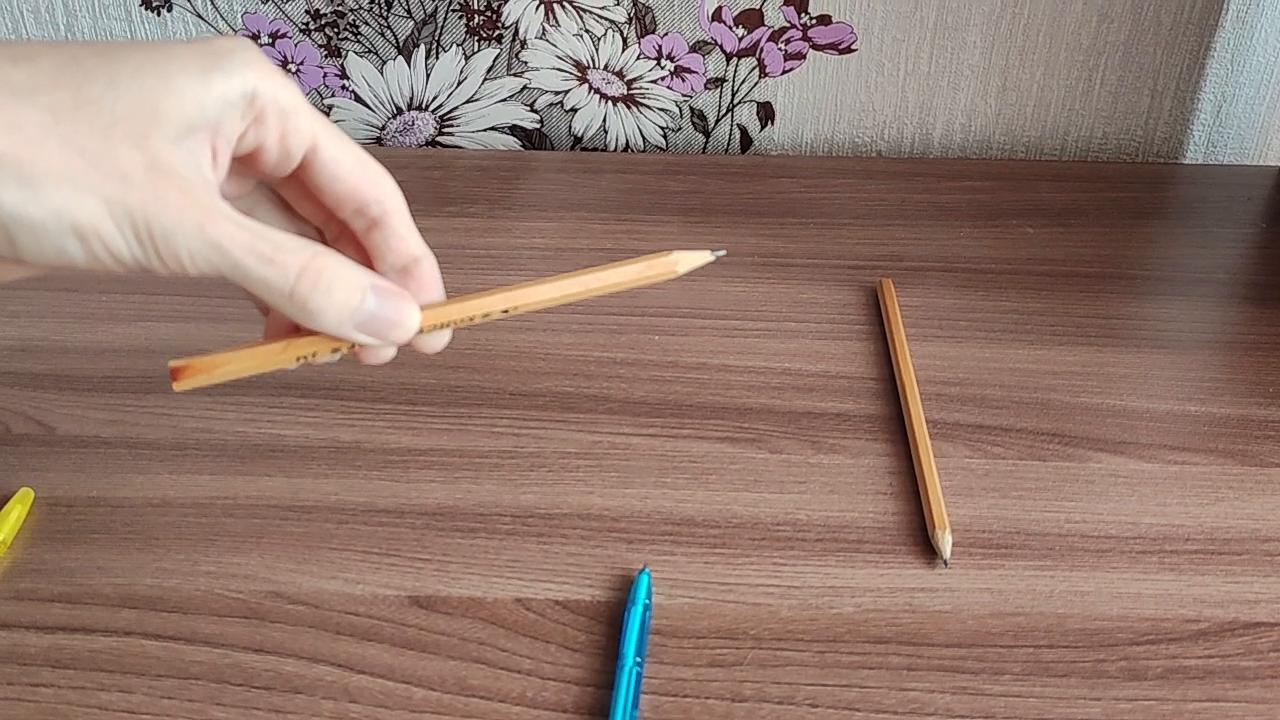pen: (599, 559, 657, 720), (0, 486, 40, 562)
pencil: (167, 247, 733, 395), (873, 272, 957, 568)
